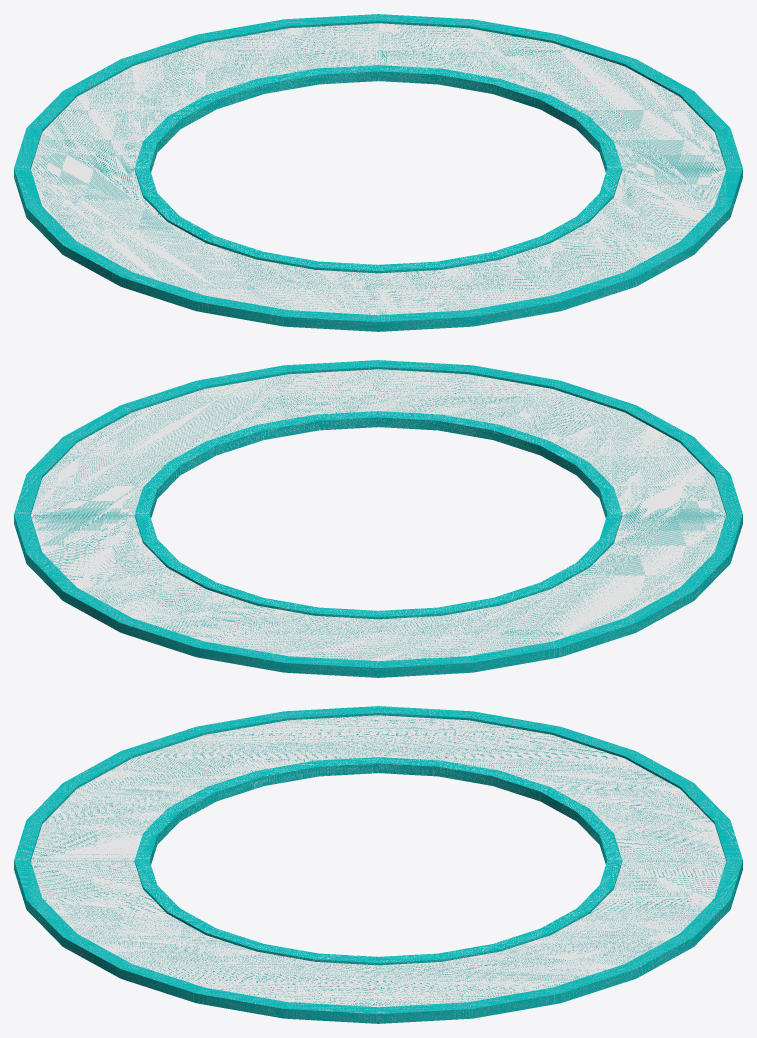
File: AmbienteEspositivoReperti.fbx
3 renders of one model, top to bottom at view 1: azimuth 30°, elevation 25°; view 2: azimuth 150°, elevation 25°; view 3: azimuth 270°, elevation 25°, orthographic.
Visible parts, largest first — view 1: AmbienteEspositivoReperti; view 2: AmbienteEspositivoReperti; view 3: AmbienteEspositivoReperti.
Part boxes in pixels (x1,y1,x2,y2): AmbienteEspositivoReperti: (14, 14, 742, 331); AmbienteEspositivoReperti: (14, 360, 742, 677); AmbienteEspositivoReperti: (14, 706, 742, 1023).
Bounding box in the file's own units: 1762 × 26 × 1762.
